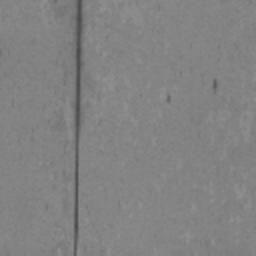Scratches: (73, 0, 84, 256), (213, 79, 218, 90)
